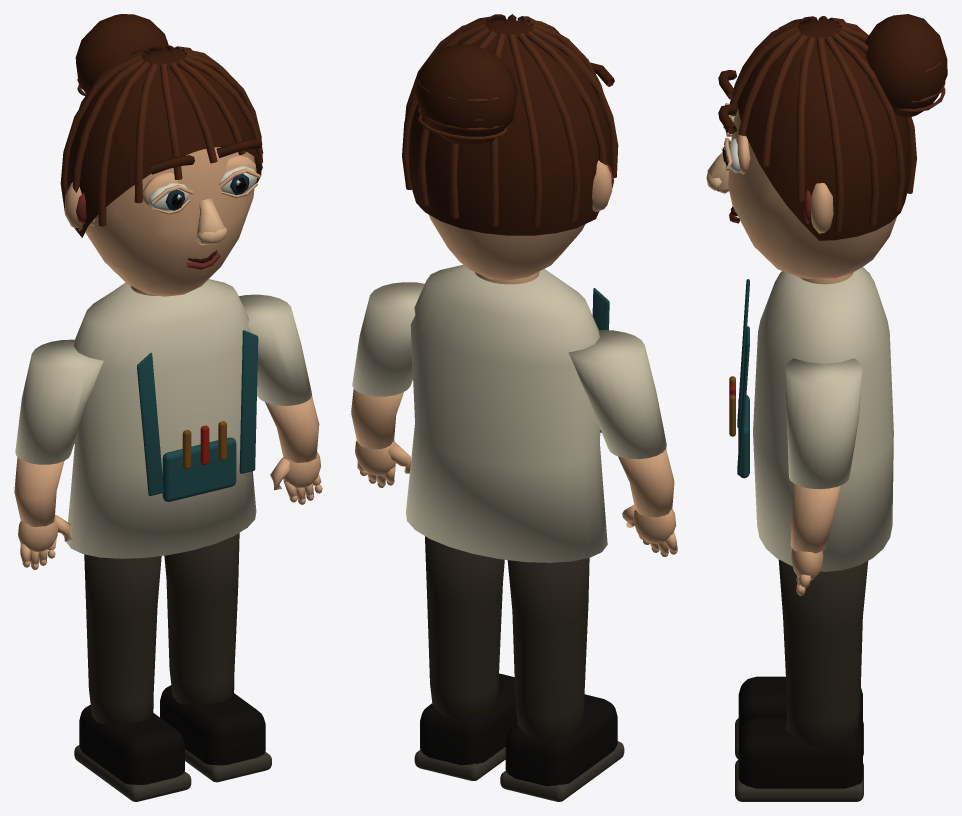
The model's file is technician-04.glb.
The picture shows the model from 3 angles, left to right: view 1: azimuth 30°, elevation 25°; view 2: azimuth 150°, elevation 25°; view 3: azimuth 270°, elevation 25°; orthographic projection. The views are drawn at different scales.
Parts seen in each view (by area): view 1: Body, Head, LegL, LegR, ArmL, ArmR; view 2: Body, Head, LegL, LegR, ArmL, ArmR; view 3: Head, Body, LegR, ArmR, LegL.
Part boxes in pixels (<box>): Body: <box>66,279,258,558</box>; Head: <box>60,14,263,296</box>; LegL: <box>74,554,191,801</box>; LegR: <box>160,533,271,782</box>; ArmL: <box>14,339,103,569</box>; ArmR: <box>239,294,322,504</box>; Body: <box>405,264,609,562</box>; Head: <box>402,14,618,279</box>; LegL: <box>500,558,624,801</box>; LegR: <box>414,536,517,780</box>; ArmL: <box>568,330,677,556</box>; ArmR: <box>351,282,424,487</box>; Head: <box>706,14,947,278</box>; Body: <box>729,267,893,571</box>; LegR: <box>735,559,868,801</box>; ArmR: <box>785,358,862,595</box>; LegL: <box>735,676,863,759</box>.
Bounding box in the file's own units: 0.618 × 1.4 × 0.4084.
